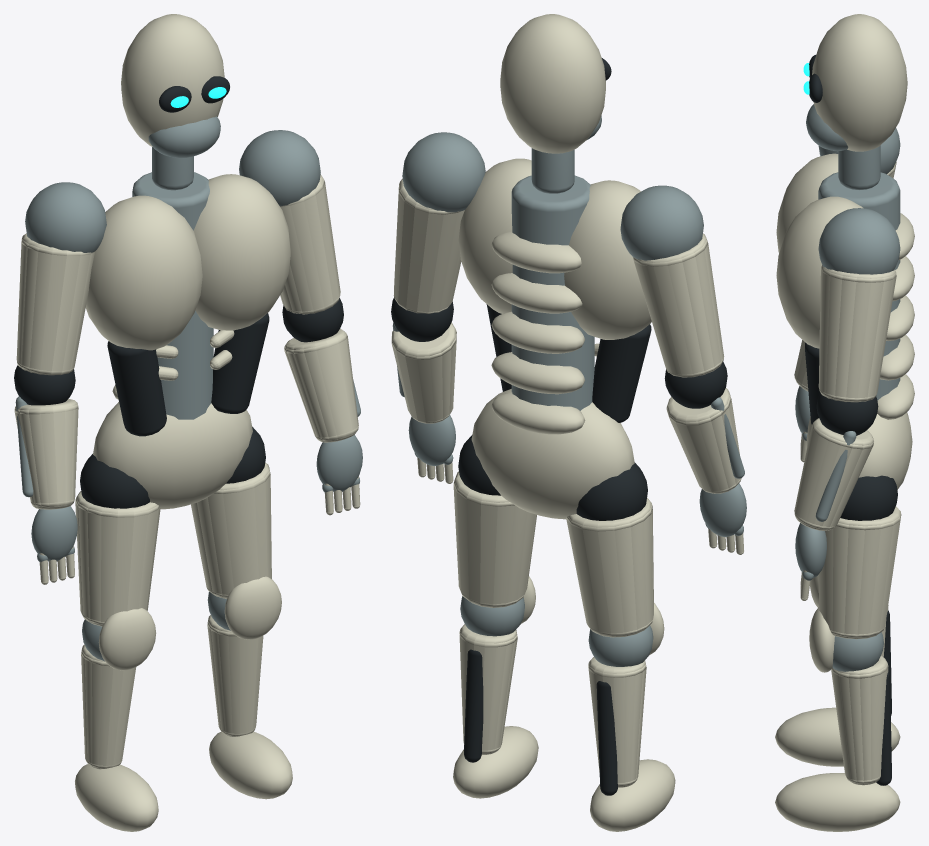
File: service-android.glb
3 renders of one model, left to right at view 1: azimuth 30°, elevation 25°; view 2: azimuth 150°, elevation 25°; view 3: azimuth 270°, elevation 25°, orthographic. The views are drawn at different scales.
Parts seen in each view (by area): view 1: Vertebra, Spinal column, Abdominal actuator; view 2: Vertebra, Spinal column, Abdominal actuator; view 3: Vertebra, Spinal column, Abdominal actuator.
Boxes of the visible parts, x1,y1,x2,y2 form: Vertebra: (14, 14, 360, 831); Spinal column: (15, 116, 362, 661); Abdominal actuator: (14, 76, 343, 508); Vertebra: (391, 14, 743, 831); Spinal column: (392, 115, 746, 666); Abdominal actuator: (391, 58, 727, 795); Vertebra: (775, 14, 914, 831); Spinal column: (795, 104, 900, 671); Abdominal actuator: (805, 55, 897, 785).
Size of the model in its own units: 0.8033 by 1.78 by 0.29.
